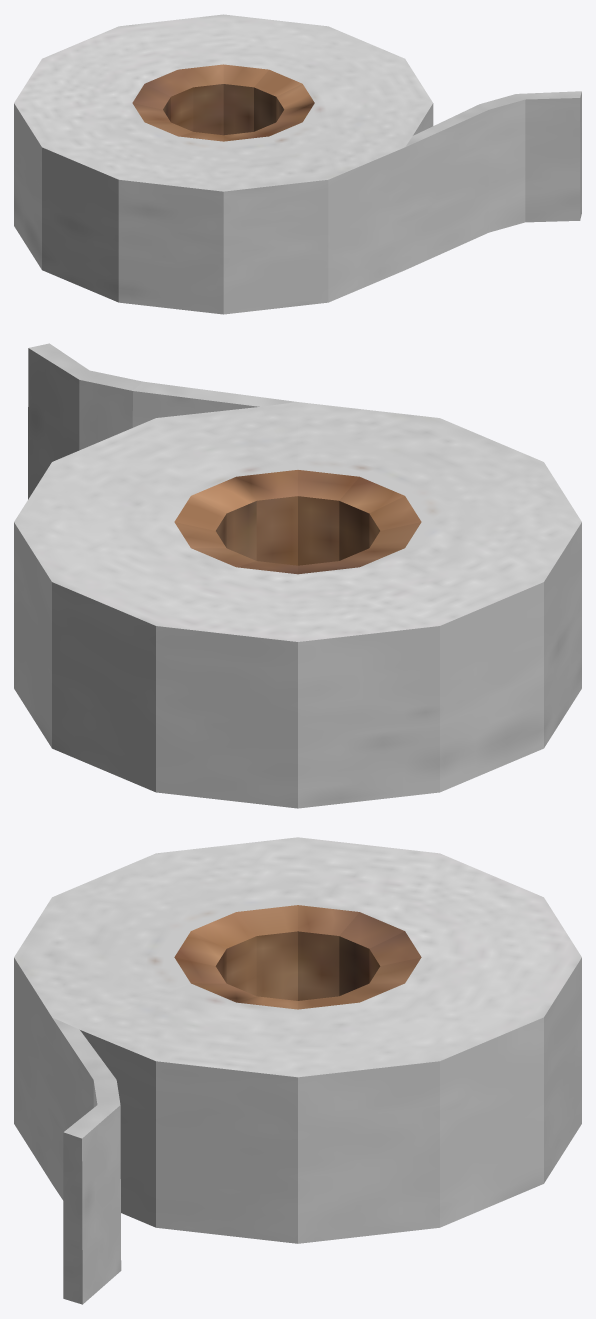
The model's file is PDH_taperoll.fbx.
The picture shows the model from 3 angles, top to bottom: view 1: azimuth 30°, elevation 25°; view 2: azimuth 150°, elevation 25°; view 3: azimuth 270°, elevation 25°; orthographic projection. The views are drawn at different scales.
Parts seen in each view (by area): view 1: taperoll; view 2: taperoll; view 3: taperoll.
Boxes of the visible parts, x1=… form: taperoll: x1=14, y1=14, x2=581, y2=314; taperoll: x1=14, y1=343, x2=581, y2=808; taperoll: x1=14, y1=837, x2=581, y2=1304.
Bounding box in the file's own units: 254 × 200 × 66.06.
